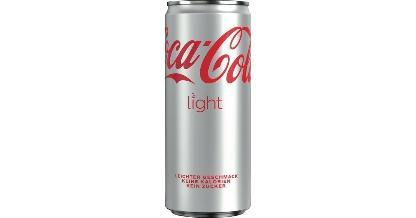Can: (163, 0, 253, 218)
